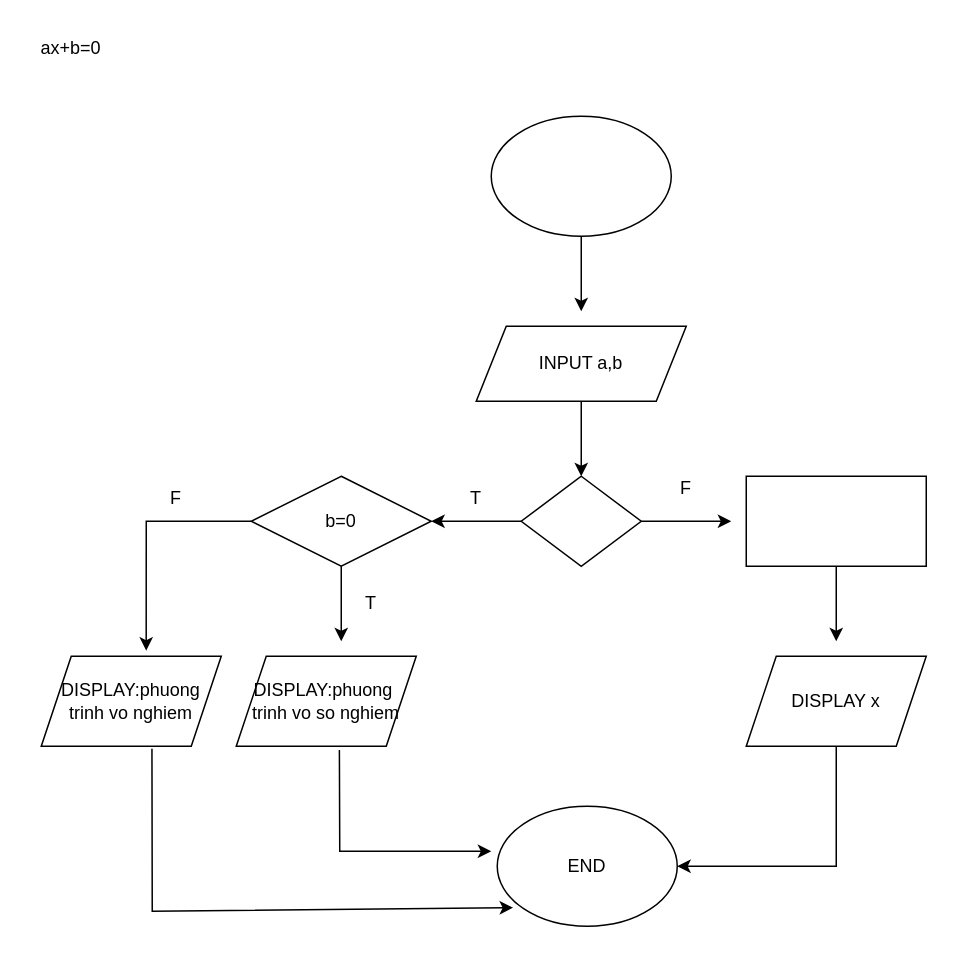
Image size: 953x953. Some labels were removed from this diagram. The shapes that lost their labels are listed below. From the top down, each one's centre as x and y in pixels, then its label:
point (580, 175): START
point (580, 520): a=0
point (835, 520): x=-b/a
